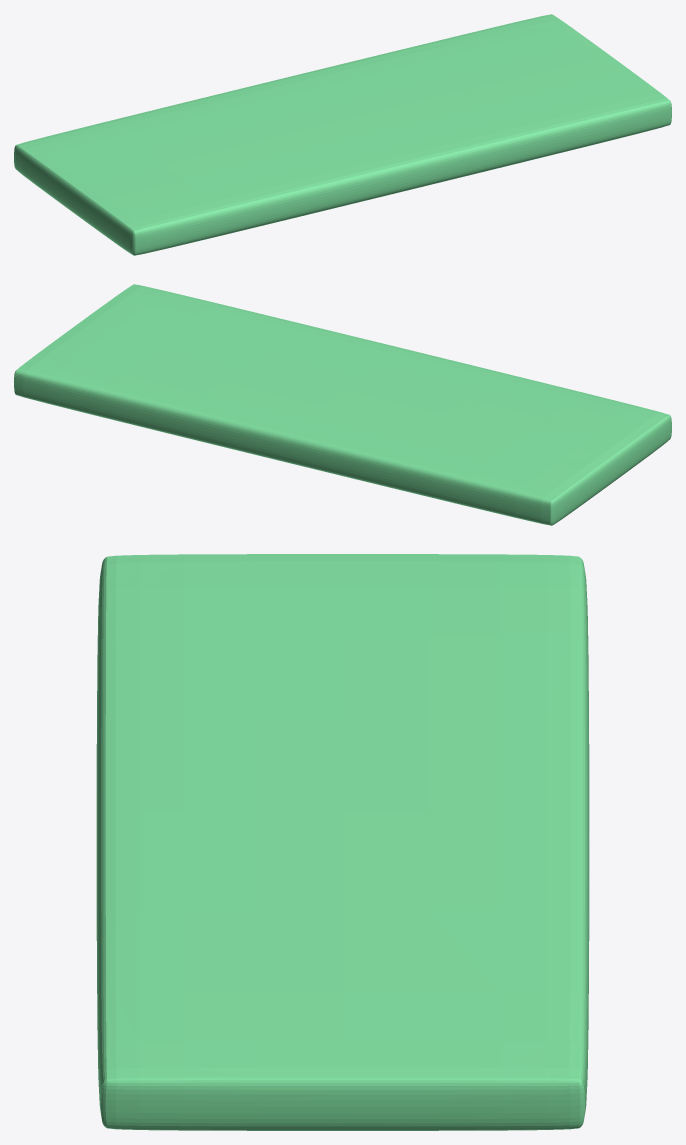
Rendered from Level2-Base-Green.fbx.
3 renders of one model, top to bottom at view 1: azimuth 30°, elevation 25°; view 2: azimuth 150°, elevation 25°; view 3: azimuth 270°, elevation 25°, orthographic. The views are drawn at different scales.
Visible parts, largest first — view 1: pCube1; view 2: pCube1; view 3: pCube1.
Part boxes in pixels (x1,y1,x2,y2): pCube1: (14, 14, 671, 255); pCube1: (14, 284, 671, 525); pCube1: (96, 554, 589, 1130).
Bounding box in the file's own units: 12.99 × 0.6936 × 5.11.
